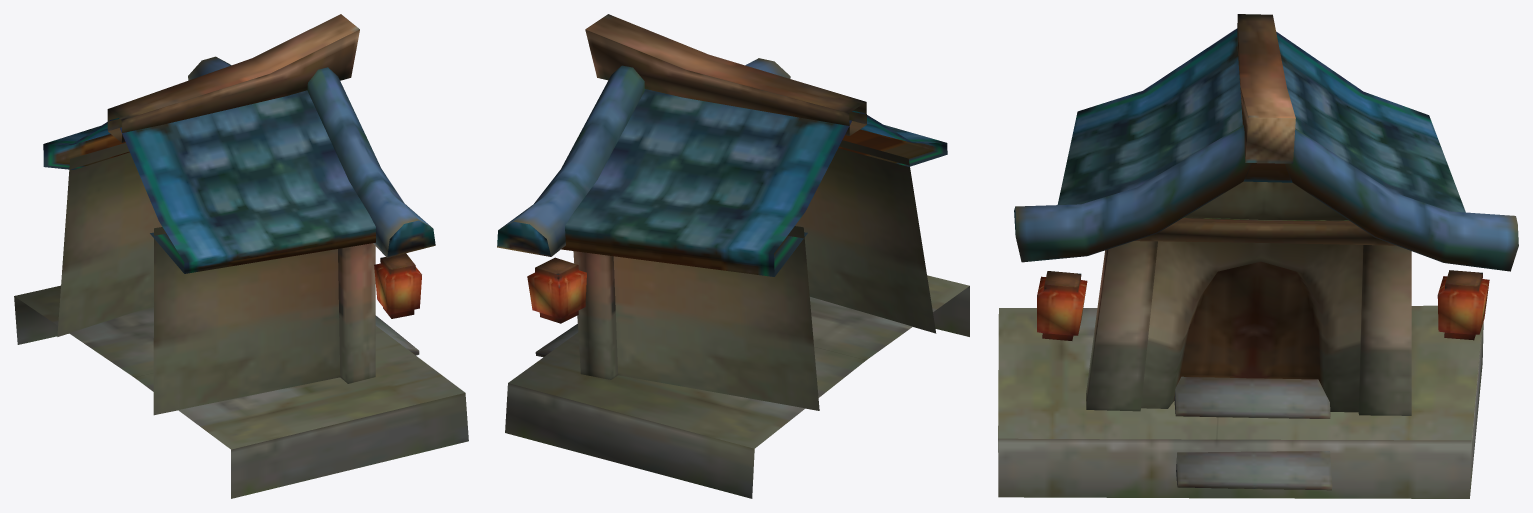
The model's file is h5_fangzi_02.FBX.
The picture shows the model from 3 angles, left to right: view 1: azimuth 30°, elevation 25°; view 2: azimuth 150°, elevation 25°; view 3: azimuth 270°, elevation 25°; orthographic projection. The views are drawn at different scales.
Visible parts, largest first — view 1: h5_fangzi_02; view 2: h5_fangzi_02; view 3: h5_fangzi_02.
Boxes of the visible parts, x1=… form: h5_fangzi_02: x1=14, y1=14, x2=468, y2=498; h5_fangzi_02: x1=497, y1=14, x2=969, y2=498; h5_fangzi_02: x1=998, y1=14, x2=1518, y2=498.
Size of the model in its own units: 7.08 by 7.65 by 9.49.
